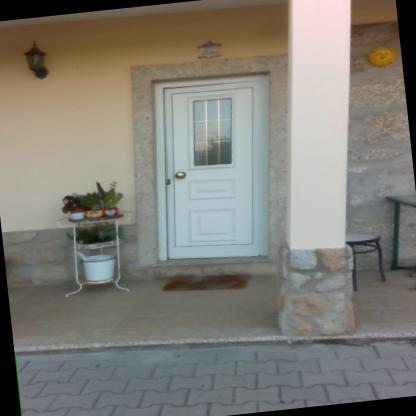closed: (128, 60, 298, 280)
